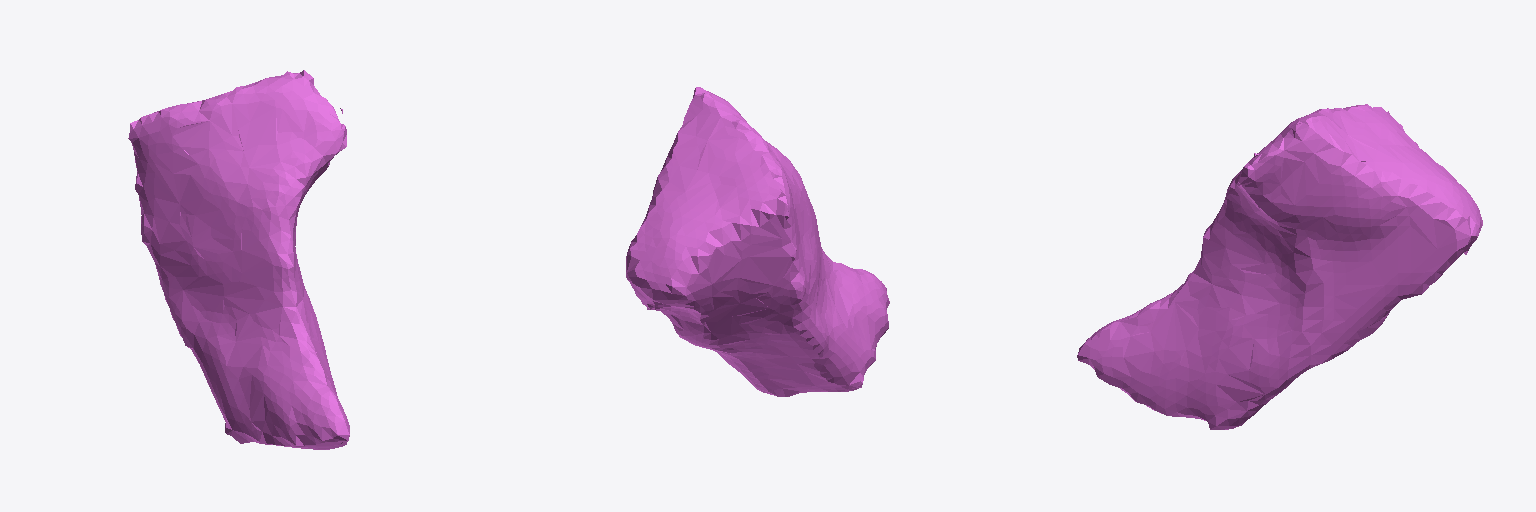
Rendered from Model_86_RH__Auditory_cortex__rostrotemporal_medial_area_(AuRTM).obj.
The picture shows the model from 3 angles: view 1: azimuth 30°, elevation 25°; view 2: azimuth 150°, elevation 25°; view 3: azimuth 270°, elevation 25°; orthographic projection.
Size of the model in its own units: 1.32 by 2.74 by 3.1.